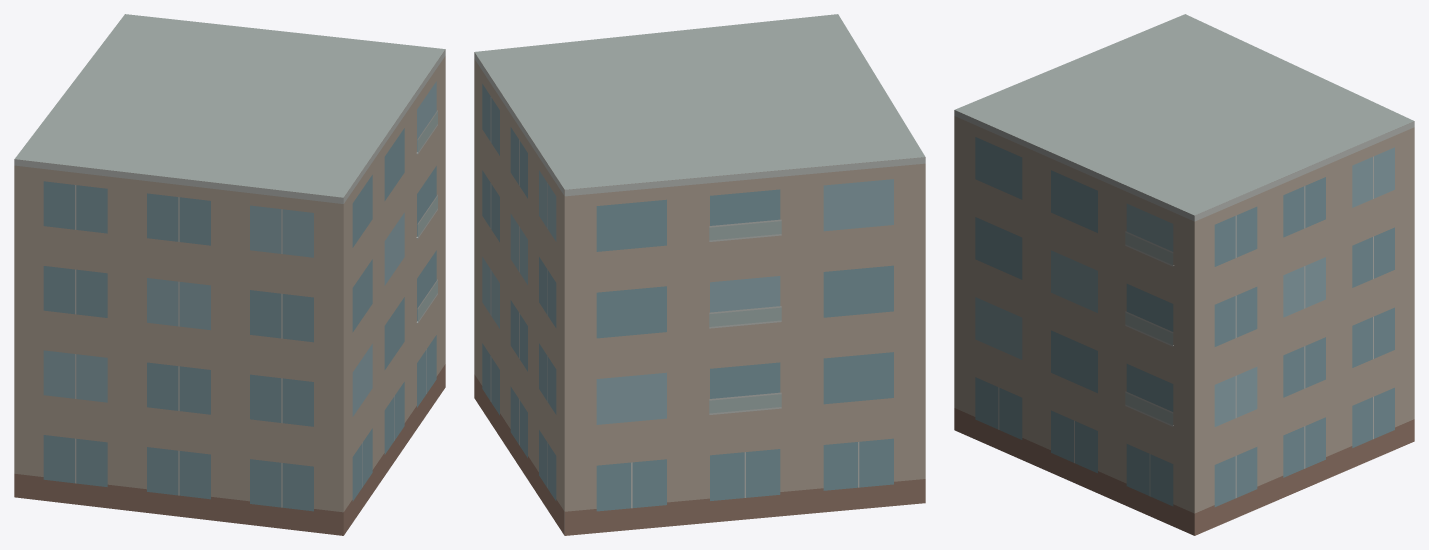
File: survey-upis-32919324.glb
The picture shows the model from 3 angles, left to right: view 1: azimuth 30°, elevation 25°; view 2: azimuth 150°, elevation 25°; view 3: azimuth 270°, elevation 25°; orthographic projection. The views are drawn at different scales.
Visible parts, largest first — view 1: survey-upis-32919324.tmp; view 2: survey-upis-32919324.tmp; view 3: survey-upis-32919324.tmp.
Part boxes in pixels (<box>): survey-upis-32919324.tmp: <box>14,14,445,535</box>; survey-upis-32919324.tmp: <box>474,14,925,535</box>; survey-upis-32919324.tmp: <box>954,14,1414,535</box>.
Bounding box in the file's own units: 17.33 × 12.84 × 16.72.
